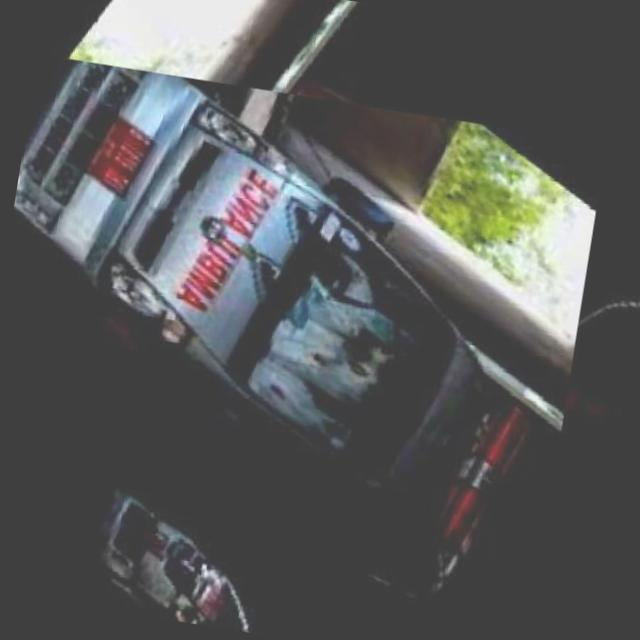emergency-vehicle: (0, 30, 586, 640)
